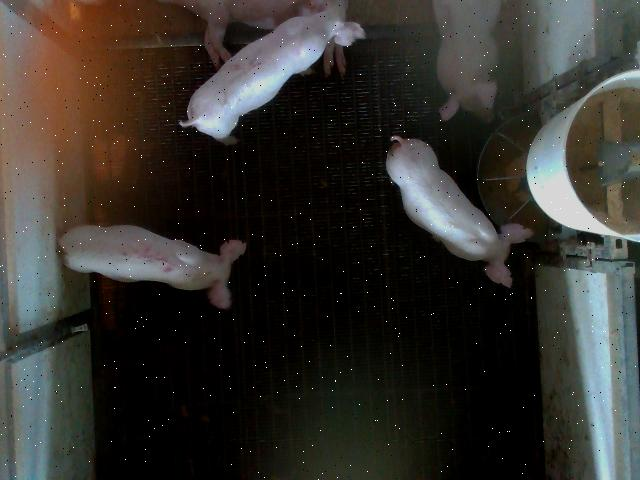pig-5: (59, 226, 245, 309)
